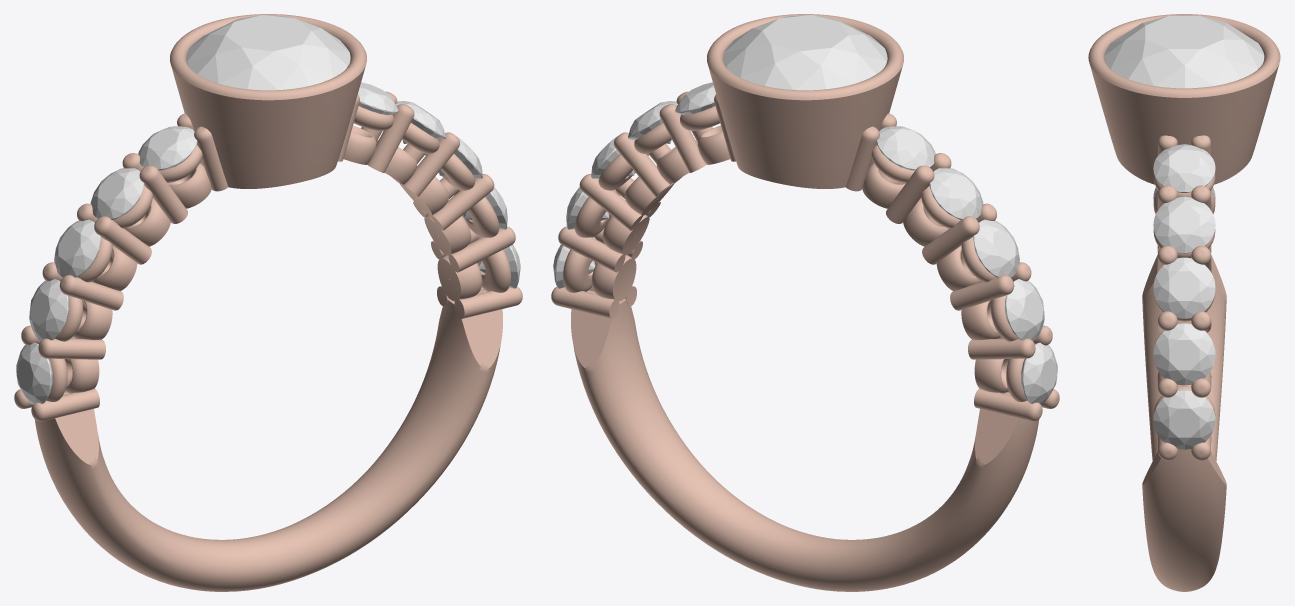
Rendered from diamond-round-rosegold-bezelset-taperedband-11stone.glb.
3 renders of one model, left to right at view 1: azimuth 30°, elevation 25°; view 2: azimuth 150°, elevation 25°; view 3: azimuth 270°, elevation 25°, orthographic. The views are drawn at different scales.
Visible parts, largest first — view 1: metal, stone, side.001, side.002, side, side.003, side.004, side.005, side.006; view 2: metal, stone, side.001, side.002, side, side.003, side.004, side.005, side.006; view 3: metal, stone, side.008, side.007, side.009, side.006, side.005.
Part boxes in pixels (x1=…): metal: x1=14, y1=14, x2=522, y2=591; stone: x1=186, y1=15, x2=350, y2=90; side.001: x1=90, y1=168, x2=144, y2=219; side.002: x1=54, y1=219, x2=100, y2=277; side: x1=138, y1=126, x2=197, y2=170; side.003: x1=29, y1=279, x2=68, y2=340; side.004: x1=16, y1=342, x2=52, y2=404; side.005: x1=358, y1=82, x2=398, y2=115; side.006: x1=396, y1=101, x2=445, y2=143; metal: x1=551, y1=14, x2=1059, y2=591; stone: x1=723, y1=15, x2=887, y2=90; side.001: x1=929, y1=168, x2=983, y2=219; side.002: x1=973, y1=219, x2=1019, y2=277; side: x1=876, y1=126, x2=935, y2=170; side.003: x1=1005, y1=279, x2=1044, y2=340; side.004: x1=1021, y1=342, x2=1057, y2=404; side.005: x1=675, y1=82, x2=715, y2=115; side.006: x1=628, y1=101, x2=677, y2=143; metal: x1=1088, y1=14, x2=1280, y2=591; stone: x1=1104, y1=15, x2=1264, y2=88; side.008: x1=1153, y1=323, x2=1215, y2=385; side.007: x1=1153, y1=257, x2=1215, y2=318; side.009: x1=1153, y1=390, x2=1215, y2=449; side.006: x1=1153, y1=196, x2=1215, y2=253; side.005: x1=1153, y1=144, x2=1215, y2=192.
Size of the model in its own units: 22.19 by 23.81 by 7.74.
